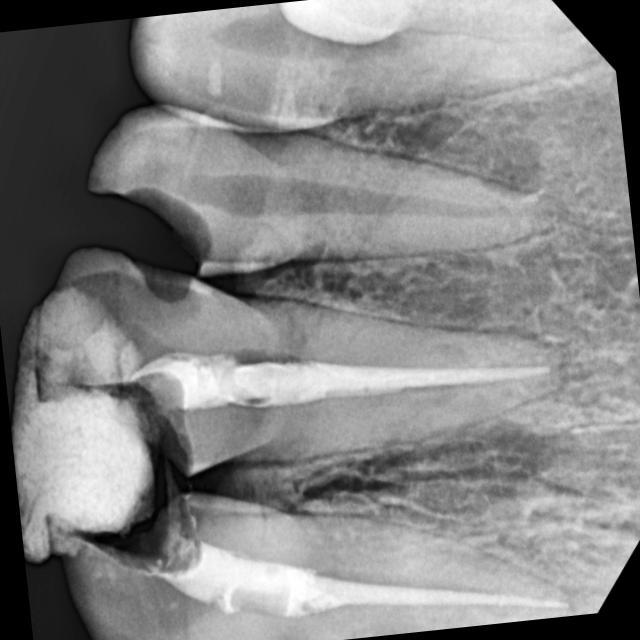Badly Decayed: (61, 144, 239, 339)
RCT: (167, 284, 576, 454), (184, 484, 585, 640)
Restoration: (2, 342, 186, 579)
